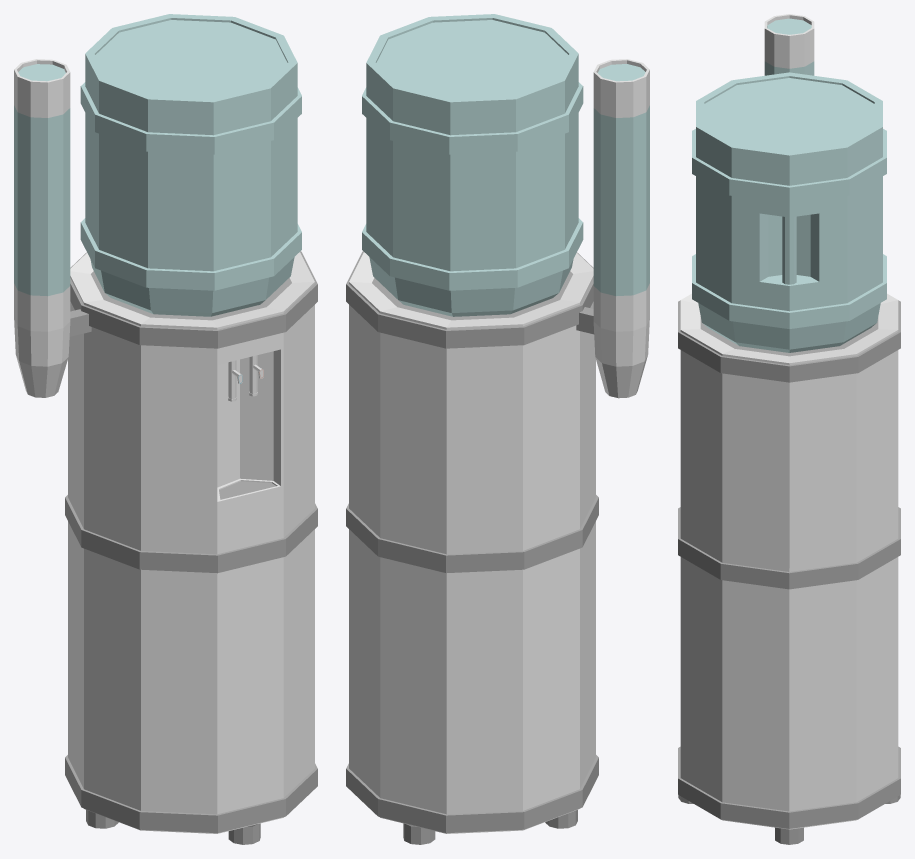
The model's file is Cooler UV.fbx.
3 views of the same model, side by side, from view 1: azimuth 30°, elevation 25°; view 2: azimuth 150°, elevation 25°; view 3: azimuth 270°, elevation 25° (orthographic). The views are drawn at different scales.
Visible parts, largest first — view 1: Cylinder_2; view 2: Cylinder_2; view 3: Cylinder_2.
Part boxes in pixels (box(x1,y1,x2,y2)): Cylinder_2: box(14, 14, 317, 844); Cylinder_2: box(346, 14, 649, 844); Cylinder_2: box(678, 14, 900, 844).
Bounding box in the file's own units: 32.6 × 84.05 × 24.05.
